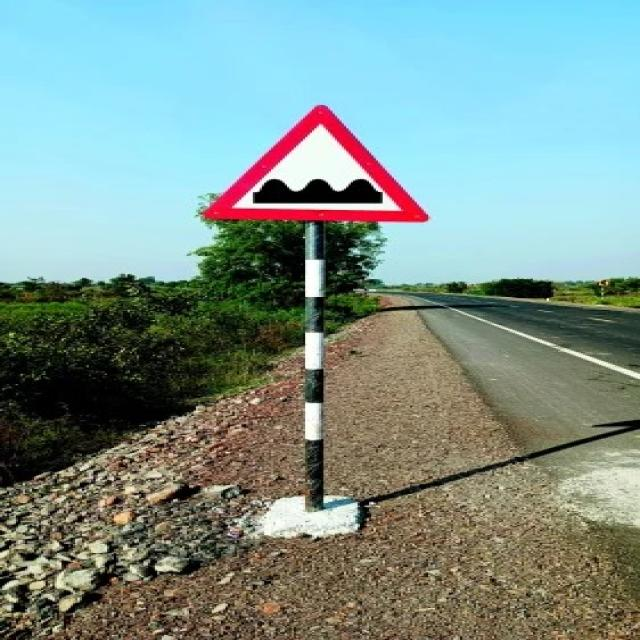Rumble_strip: (209, 102, 418, 216)
